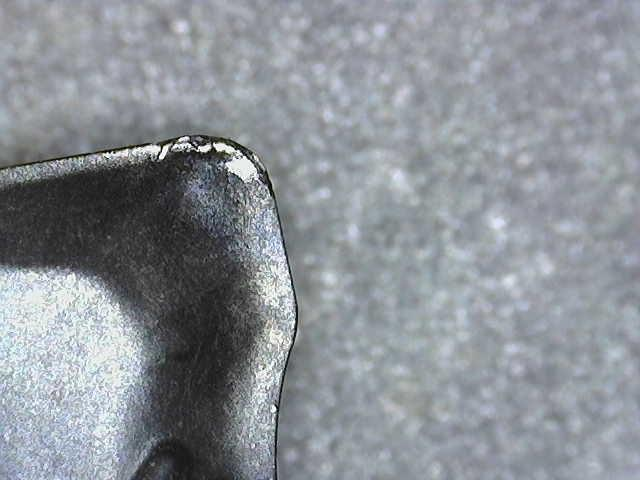normal: (249, 190, 293, 479), (1, 144, 162, 190)
wear: (157, 136, 272, 196)
